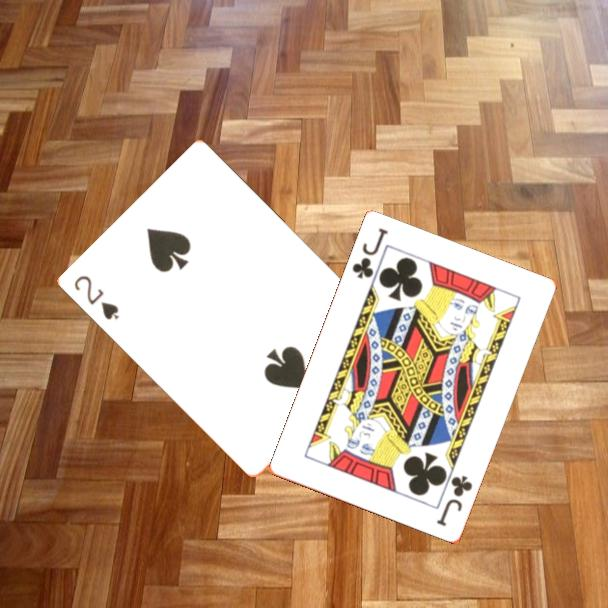c11: (433, 472, 475, 529), (349, 225, 391, 282)
s02: (71, 272, 123, 323)
